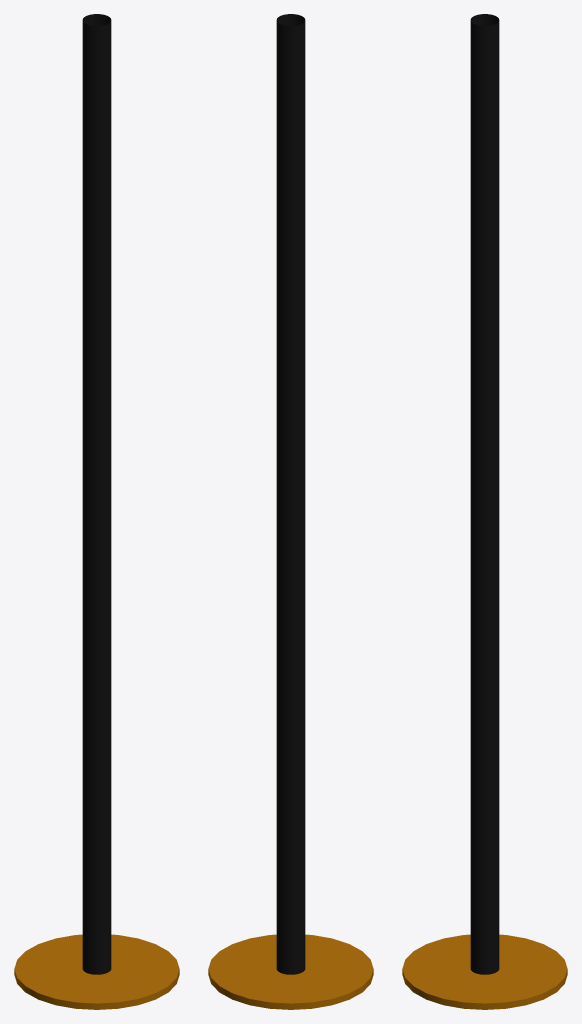
File: Chandelier Holder Extended.fbx
The picture shows the model from 3 angles, left to right: view 1: azimuth 30°, elevation 25°; view 2: azimuth 150°, elevation 25°; view 3: azimuth 270°, elevation 25°; orthographic projection.
Visible parts, largest first — view 1: Chandelier Holder Extended; view 2: Chandelier Holder Extended; view 3: Chandelier Holder Extended.
Boxes of the visible parts, left/top/right/bottom form: Chandelier Holder Extended: left=14, top=14, right=179, bottom=1009; Chandelier Holder Extended: left=208, top=14, right=373, bottom=1009; Chandelier Holder Extended: left=402, top=14, right=567, bottom=1009.
Bounding box in the file's own units: 102 × 650 × 102.
